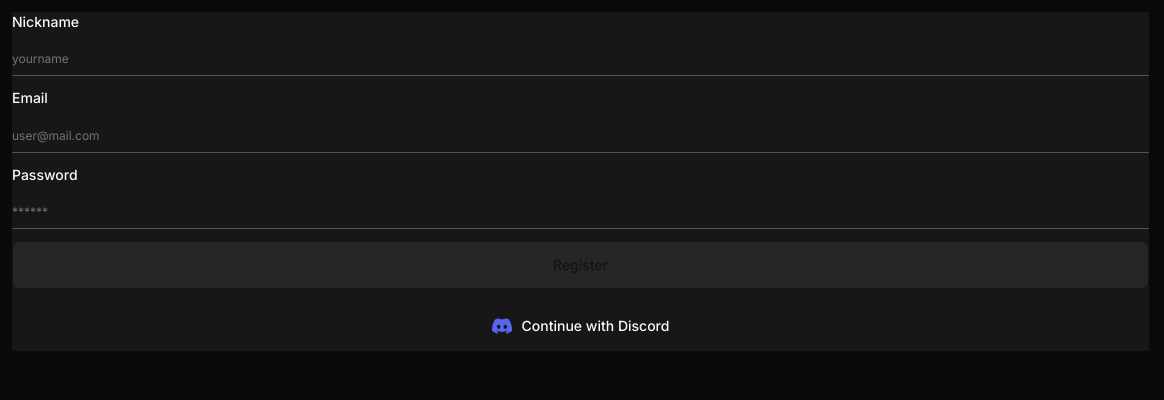
RegisterForm › shows an inline field error on a too-short password without submitting
In the password field labelled "Password": (580, 212) [12,196,1149,229], type "short"
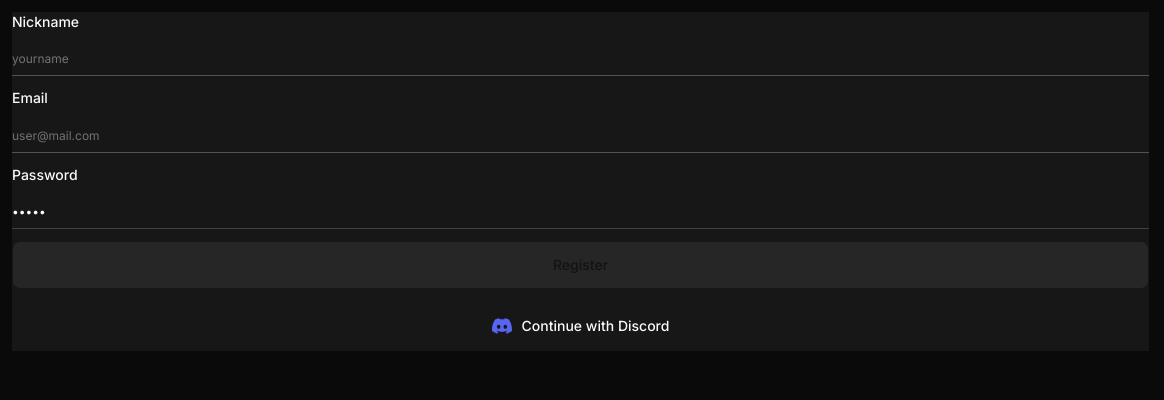
Press Tab
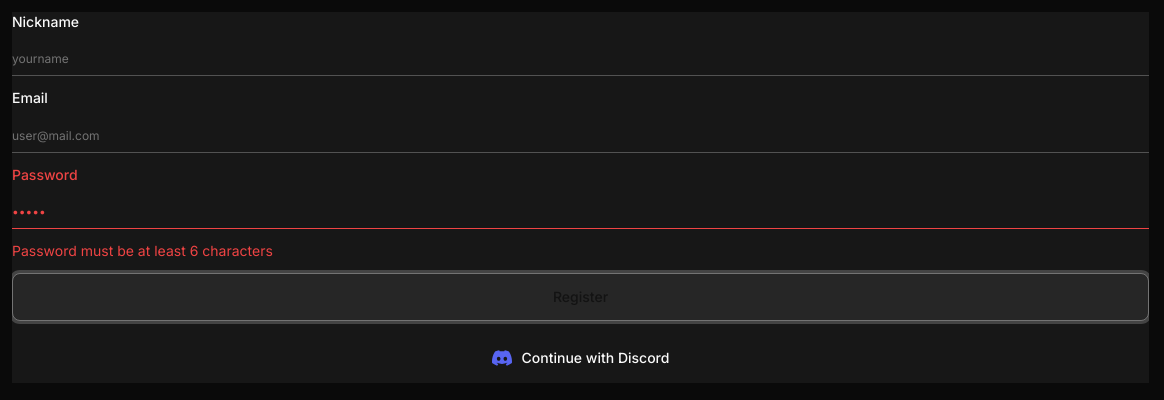
Check: the text "Password must be at least 6 characters" is shown, box [12,242,273,259]
